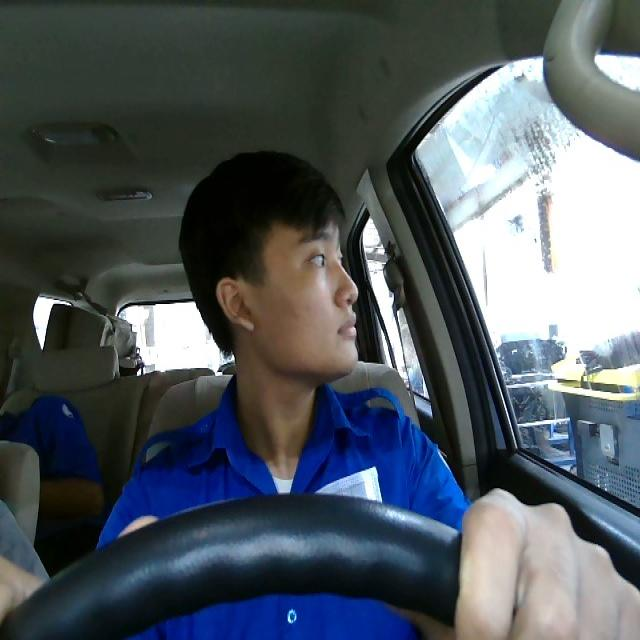seeing_right: (212, 210, 359, 378)
